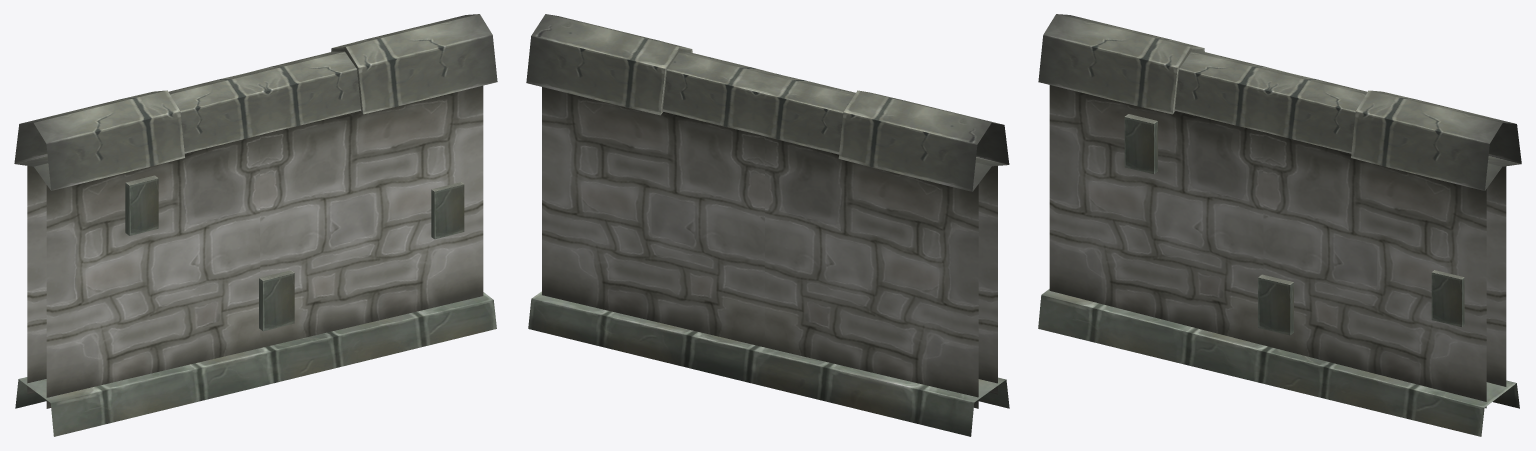
The model's file is wall_02a_tile_02.fbx.
The picture shows the model from 3 angles, left to right: view 1: azimuth 30°, elevation 25°; view 2: azimuth 150°, elevation 25°; view 3: azimuth 330°, elevation 25°; orthographic projection.
Parts seen in each view (by area): view 1: wall_02a_tile_02:Mesh; view 2: wall_02a_tile_02:Mesh; view 3: wall_02a_tile_02:Mesh.
Boxes of the visible parts, left/top/right/bottom form: wall_02a_tile_02:Mesh: left=14, top=14, right=497, bottom=436; wall_02a_tile_02:Mesh: left=526, top=14, right=1009, bottom=436; wall_02a_tile_02:Mesh: left=1038, top=14, right=1521, bottom=436.
Size of the model in its own units: 4.07 by 2.62 by 0.6094.
